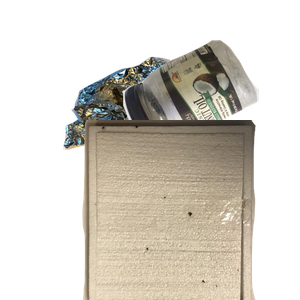glass: (94, 184, 253, 300)
metal: (61, 54, 225, 202)
plastic: (120, 37, 300, 185)
trash: (80, 120, 300, 300)
